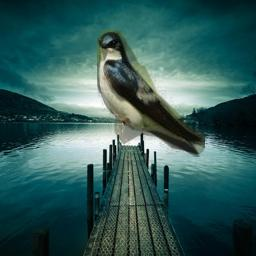Swallow: (97, 30, 205, 157)
